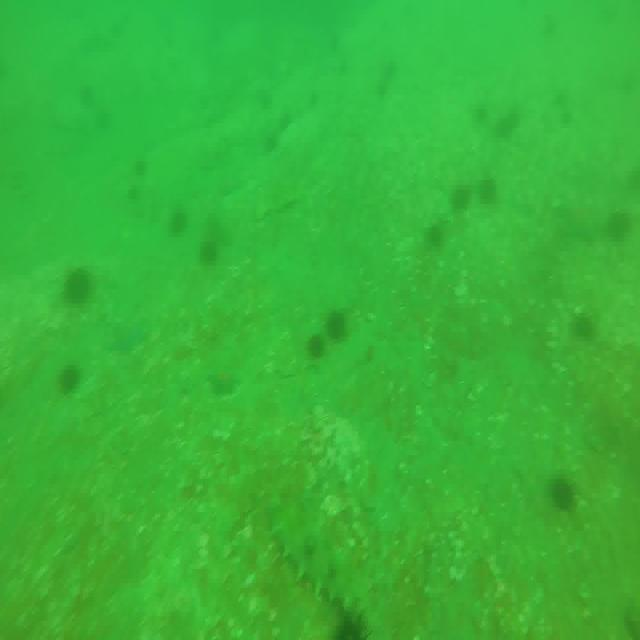echinus: (65, 267, 93, 308), (552, 473, 577, 518), (608, 207, 633, 241), (60, 363, 84, 397), (324, 309, 348, 343), (334, 617, 366, 640), (575, 307, 595, 343), (199, 232, 219, 266), (449, 187, 472, 213), (307, 326, 324, 361), (478, 176, 500, 203), (496, 109, 516, 137), (170, 208, 190, 236), (427, 219, 445, 250)
holothurian: (269, 492, 361, 603)
starfish: (110, 312, 144, 353), (207, 367, 238, 399)
